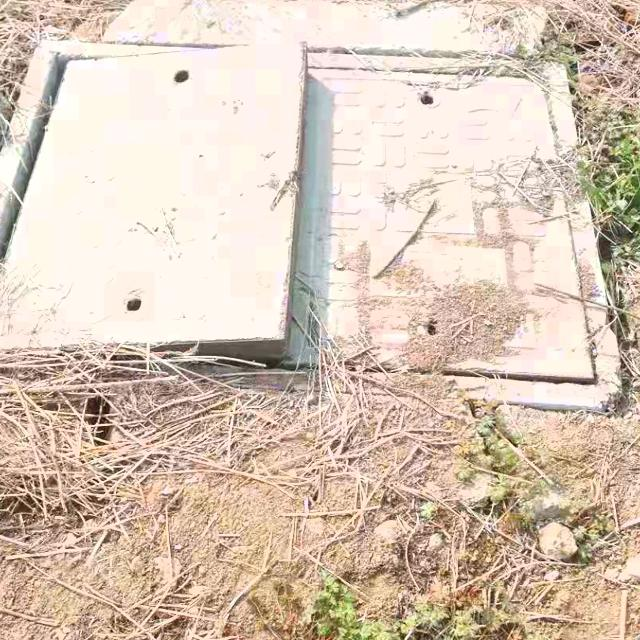uncovered: (0, 36, 621, 407)
